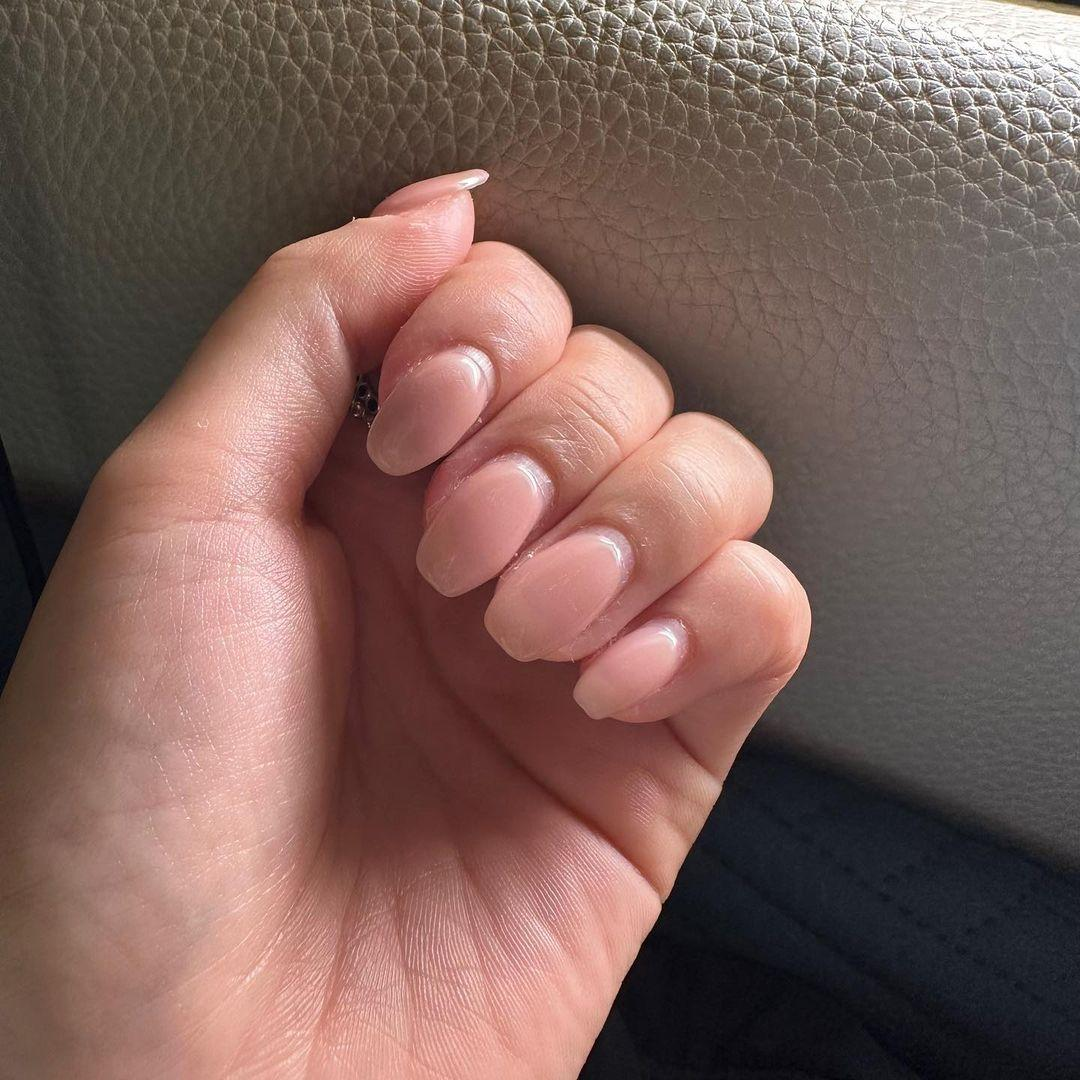nail: (482, 522, 635, 664), (414, 448, 555, 598), (364, 341, 495, 477), (571, 613, 690, 721), (370, 166, 489, 217)
